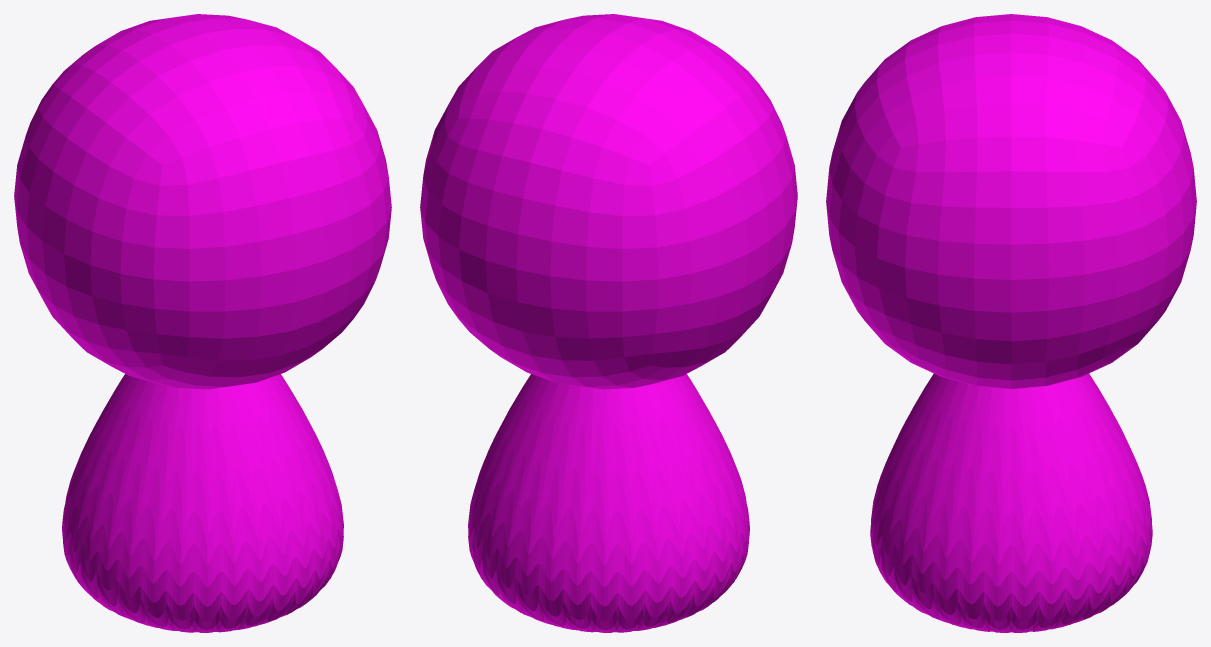
Rendered from Target Purple.fbx.
3 renders of one model, left to right at view 1: azimuth 30°, elevation 25°; view 2: azimuth 150°, elevation 25°; view 3: azimuth 270°, elevation 25°, orthographic.
Visible parts, largest first — view 1: Cube; view 2: Cube; view 3: Cube.
Boxes of the visible parts, x1,y1,x2,y2 form: Cube: (14,14,391,632); Cube: (420,14,797,632); Cube: (826,14,1196,632).
Size of the model in its own units: 168 by 292 by 168.
1 material, 1 textured.
